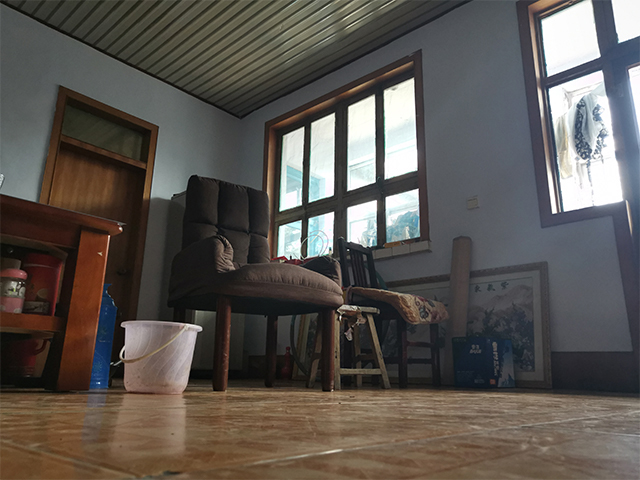stool: (165, 173, 346, 394), (337, 235, 446, 392), (303, 304, 392, 392)
table: (1, 191, 129, 394)
trashcan: (117, 318, 206, 396)
